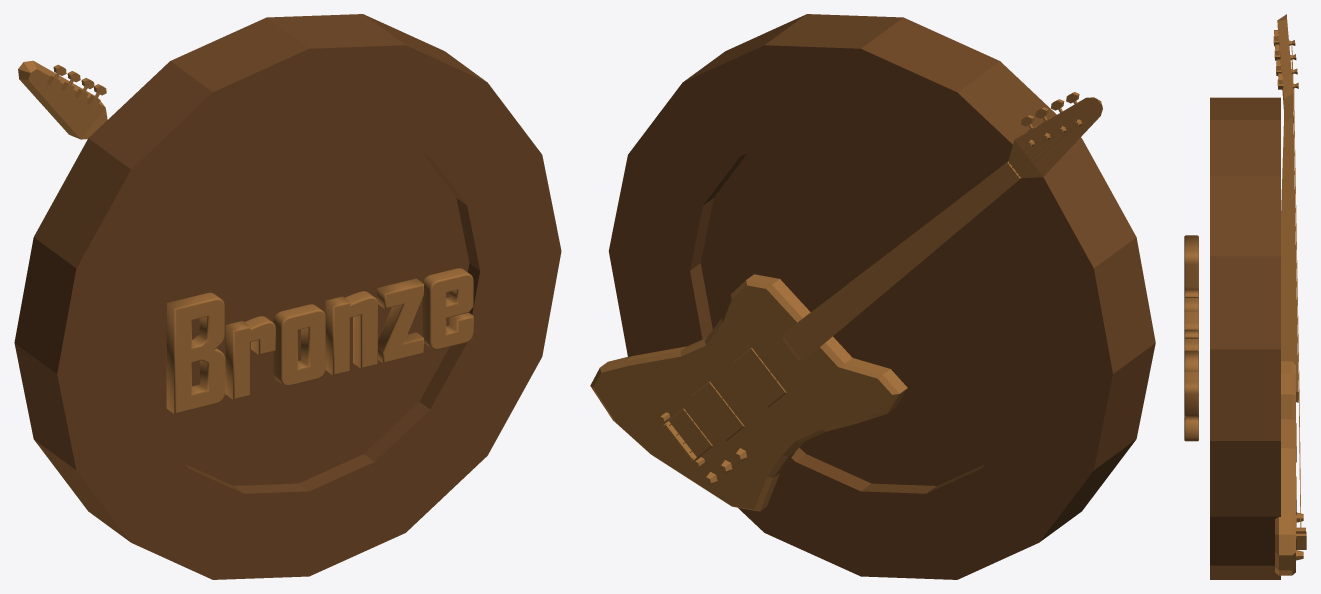
Rendered from Bronze_Bass.glb.
3 renders of one model, left to right at view 1: azimuth 30°, elevation 25°; view 2: azimuth 150°, elevation 25°; view 3: azimuth 270°, elevation 25°, orthographic. The views are drawn at different scales.
Visible parts, largest first — view 1: Coin, Bronze Text, Bass Guitar; view 2: Coin, Bass Guitar; view 3: Coin, Bass Guitar, Bronze Text.
Part boxes in pixels (x1,y1,x2,y2): Coin: [14, 14, 561, 579]; Bronze Text: [166, 268, 473, 413]; Bass Guitar: [18, 60, 107, 139]; Coin: [608, 14, 1155, 579]; Bass Guitar: [590, 92, 1102, 511]; Coin: [1210, 97, 1280, 579]; Bass Guitar: [1273, 14, 1306, 575]; Bronze Text: [1184, 235, 1198, 441].
Size of the model in its own units: 1.01 by 1.01 by 0.2503.
